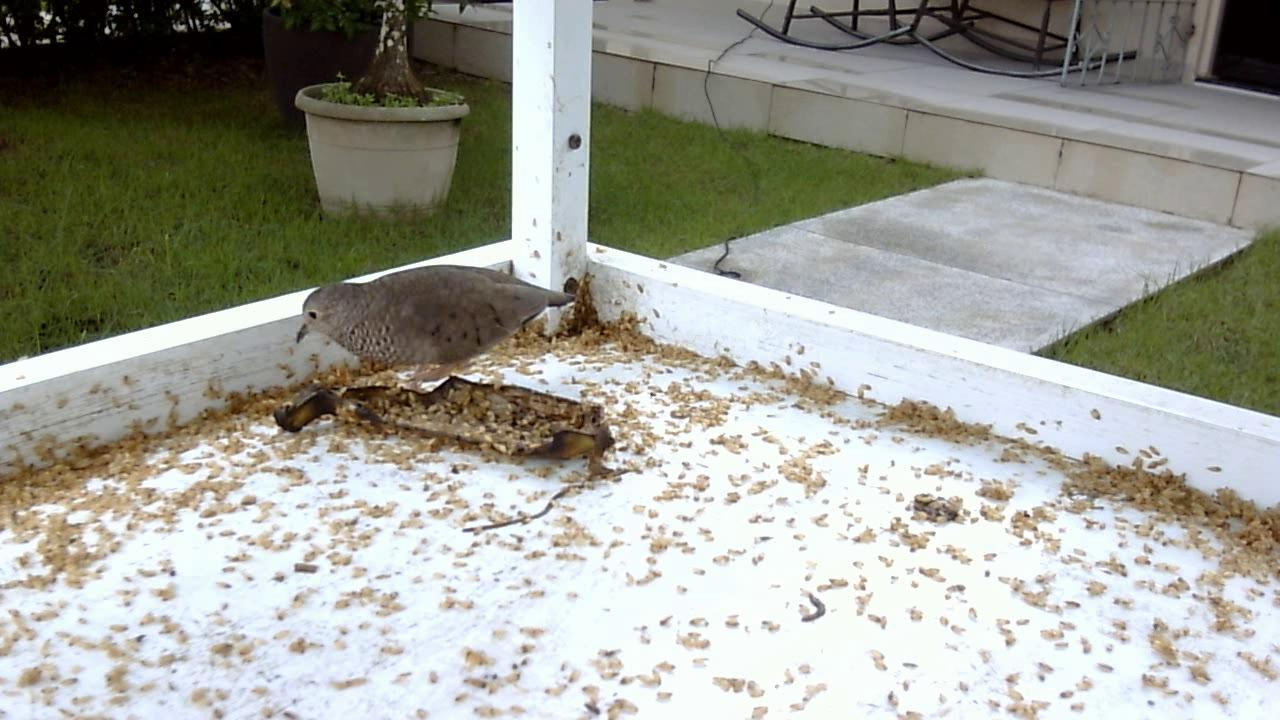rolinha: (275, 256, 576, 422)
